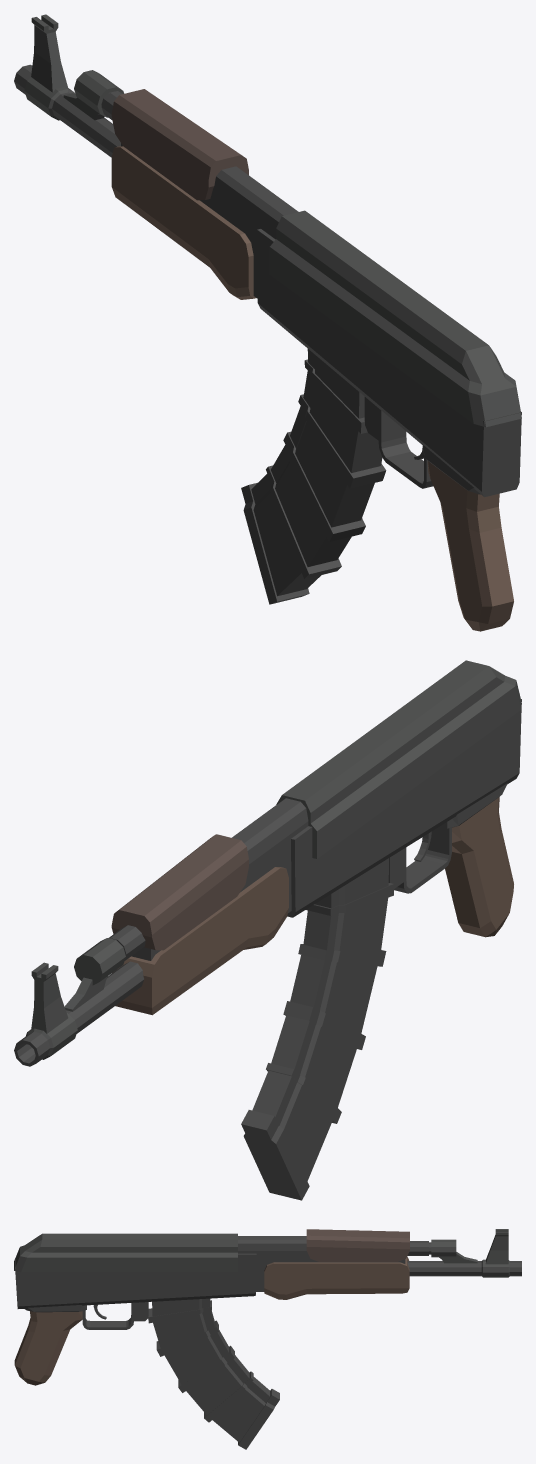
Rendered from rifle.glb.
3 renders of one model, top to bottom at view 1: azimuth 30°, elevation 25°; view 2: azimuth 150°, elevation 25°; view 3: azimuth 270°, elevation 25°, orthographic. The views are drawn at different scales.
Parts seen in each view (by area): view 1: GunMesh; view 2: GunMesh; view 3: GunMesh.
Part boxes in pixels (<box>): GunMesh: <box>14,14,521,631</box>; GunMesh: <box>14,660,521,1200</box>; GunMesh: <box>14,1229,521,1449</box>.
Size of the model in its own units: 0.0526 by 0.4294 by 0.92.
